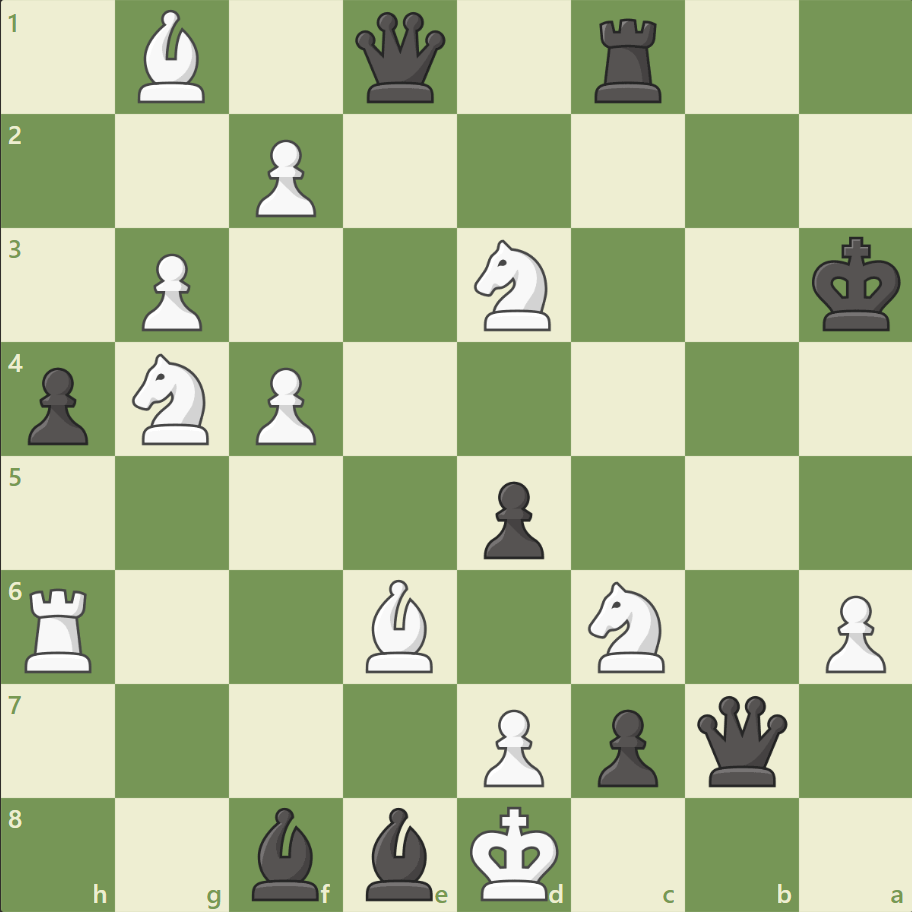B: (131, 6, 215, 109), (358, 574, 442, 676)
K: (465, 798, 565, 906)
N: (124, 348, 222, 450), (465, 234, 562, 337), (579, 575, 676, 677)
P: (474, 700, 549, 791), (247, 359, 322, 450), (133, 246, 208, 337), (247, 132, 322, 223), (815, 586, 889, 677)
R: (19, 579, 102, 676)
b: (358, 801, 442, 904), (244, 801, 328, 904)
k: (806, 231, 906, 339)
p: (474, 473, 549, 564), (20, 359, 95, 450), (588, 700, 662, 791)
q: (691, 690, 790, 789), (351, 9, 450, 108)
r: (587, 12, 670, 109)
